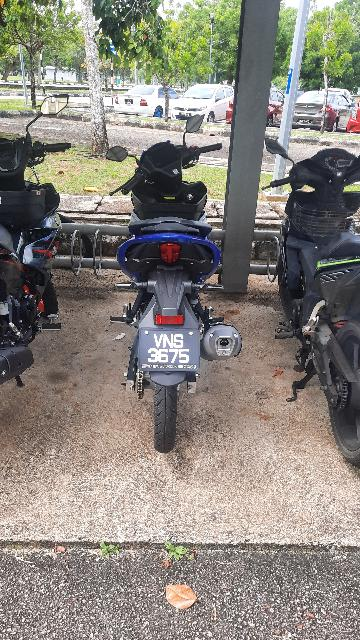License_Plate: (136, 327, 204, 373)
motorcycle: (96, 112, 253, 458)
